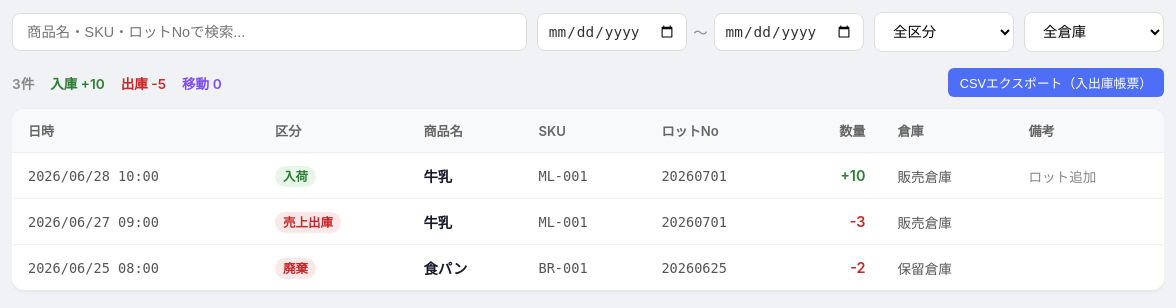
Test case: LedgerView — 絞り込み › 条件クリアは絞り込み中だけ現れ、押すと全件に戻る
Expected: the button "条件クリア" is not shown
Select "廃棄" in the dropdown named "区分": (944, 32) [874,12,1014,52]
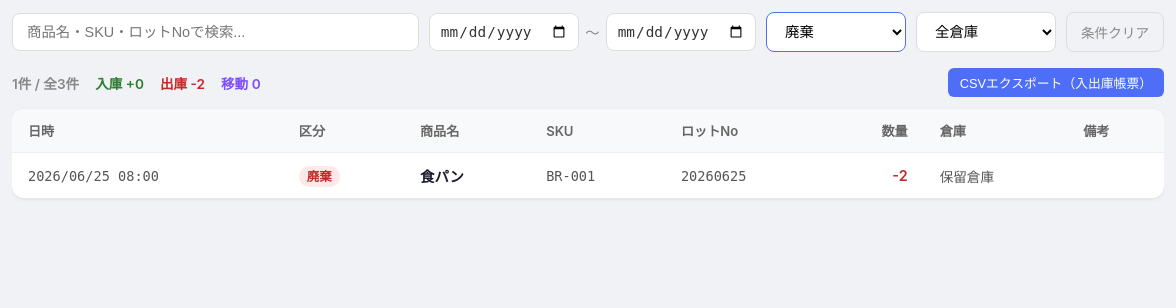
Click the button "条件クリア": (1115, 32) [1066,12,1164,52]
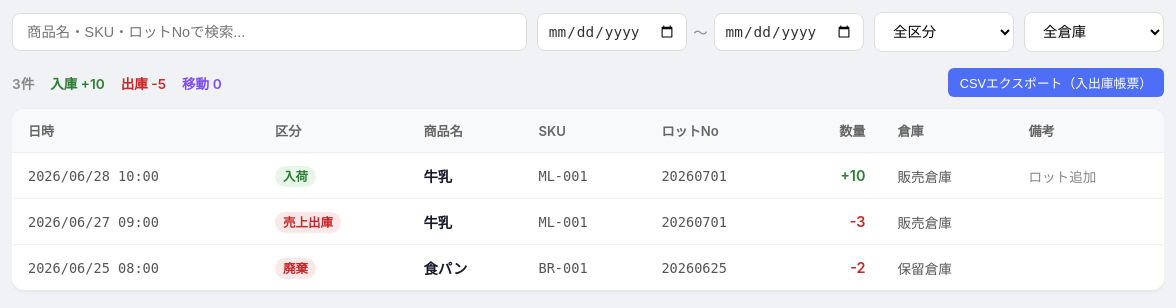
Expected: the button "条件クリア" is gone
